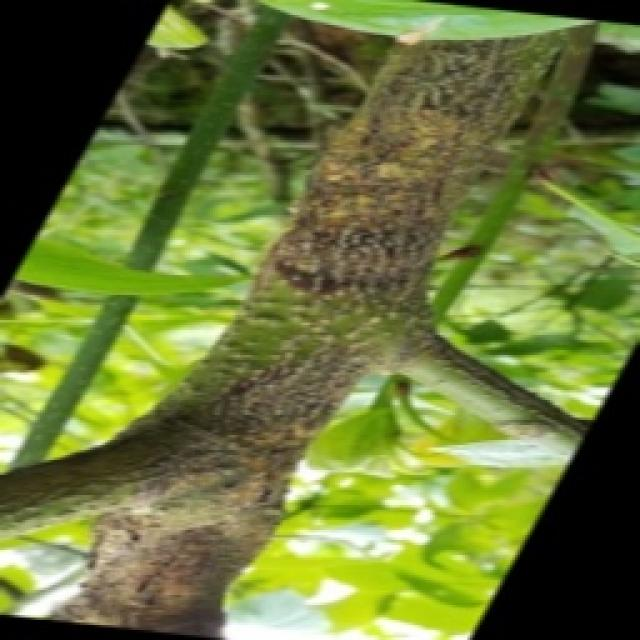Golden_canker: (8, 21, 592, 640)
